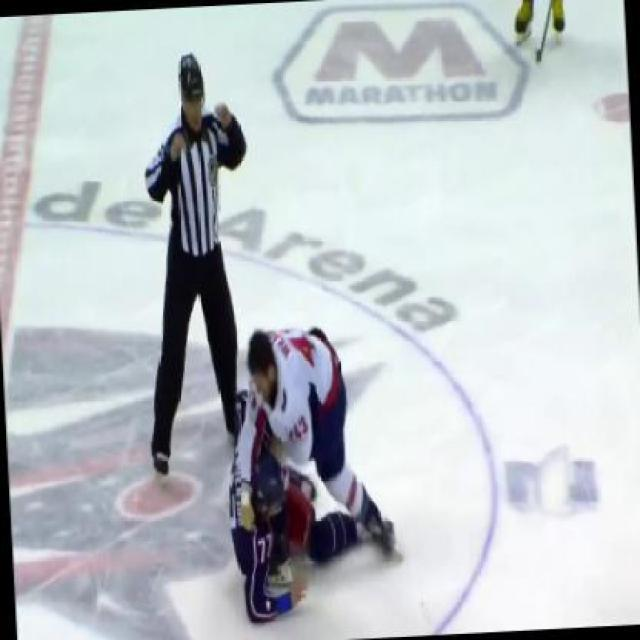fight: (220, 317, 409, 625)
non-fight: (136, 44, 256, 352)
